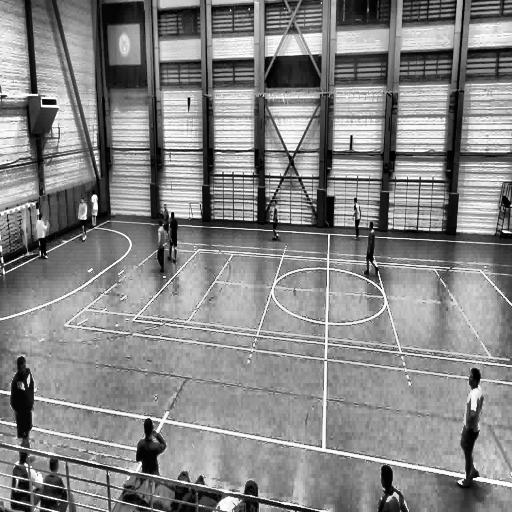player: (457, 370, 482, 488), (10, 361, 34, 452), (363, 222, 378, 276), (36, 214, 48, 260), (167, 212, 177, 263), (158, 219, 166, 273), (90, 190, 100, 230), (79, 198, 88, 241), (161, 201, 170, 243), (353, 197, 360, 239), (272, 201, 279, 240)
